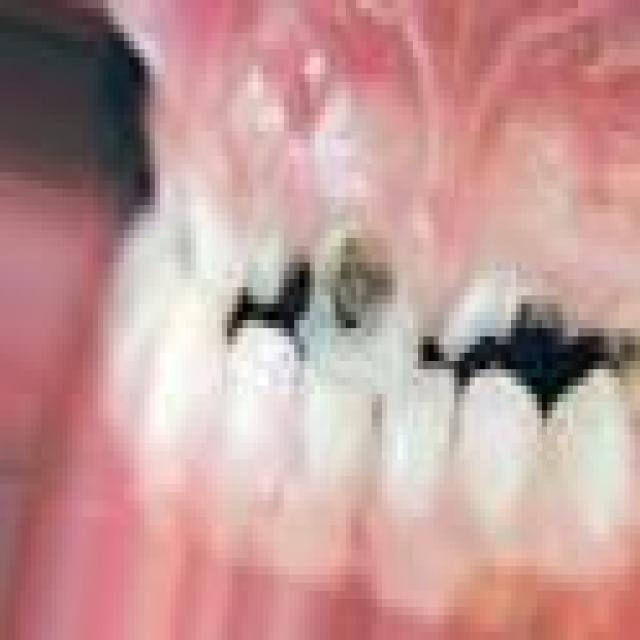caries: (303, 222, 427, 405)
